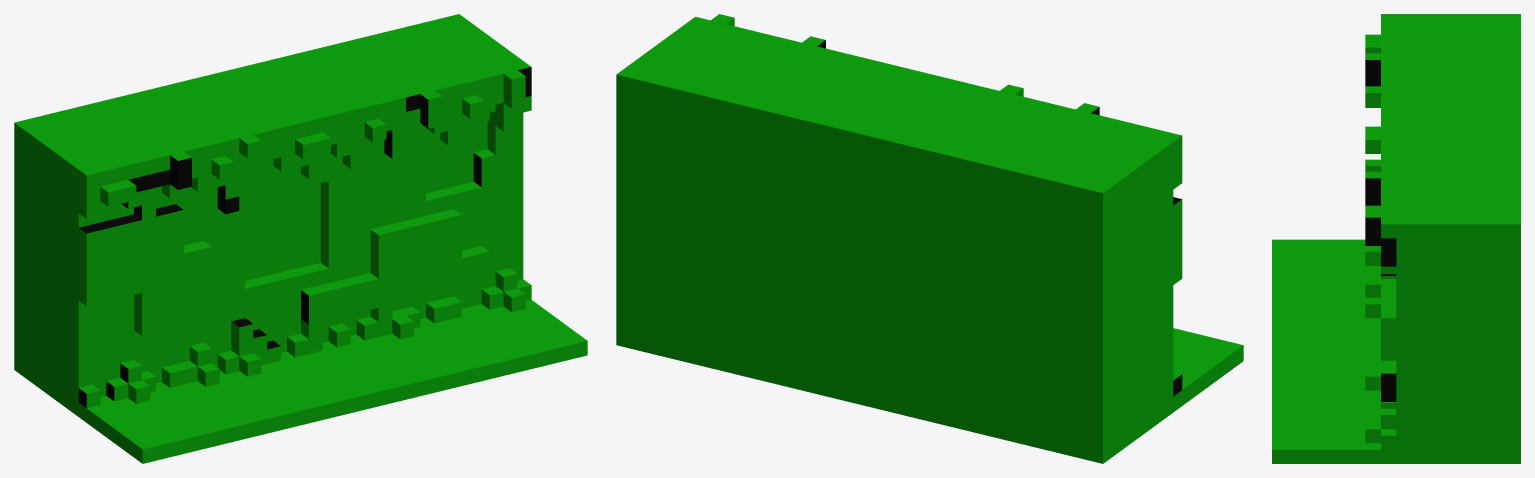
File: Straight2.fbx
3 renders of one model, left to right at view 1: azimuth 30°, elevation 25°; view 2: azimuth 150°, elevation 25°; view 3: azimuth 270°, elevation 25°, orthographic. The views are drawn at different scales.
Visible parts, largest first — view 1: Ground, Cliff; view 2: Cliff, Ground; view 3: Ground, Cliff.
Boxes of the visible parts, x1=… form: Ground: x1=14, y1=14, x2=587, y2=463; Cliff: x1=14, y1=105, x2=523, y2=416; Cliff: x1=616, y1=90, x2=1182, y2=463; Ground: x1=616, y1=14, x2=1243, y2=412; Ground: x1=1272, y1=14, x2=1520, y2=463; Cliff: x1=1381, y1=238, x2=1520, y2=463.
Size of the model in its own units: 32 by 17 by 16.
